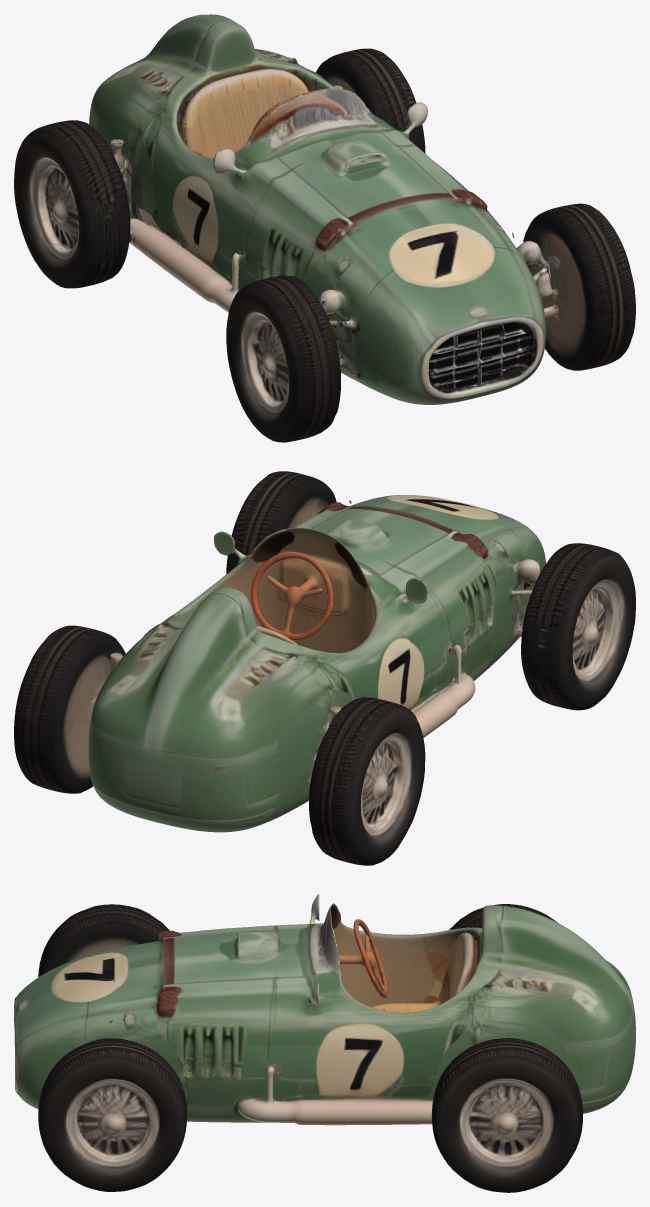
The model's file is mint-racer.glb.
3 views of the same model, one above another, from view 1: azimuth 30°, elevation 25°; view 2: azimuth 150°, elevation 25°; view 3: azimuth 270°, elevation 25° (orthographic). The views are drawn at different scales.
Visible parts, largest first — view 1: model; view 2: model; view 3: model.
Boxes of the visible parts, x1=… form: model: x1=14, y1=14, x2=635, y2=442; model: x1=14, y1=471, x2=635, y2=865; model: x1=14, y1=894, x2=635, y2=1192.
Size of the model in its own units: 1.12 by 0.7081 by 1.89.
Materials: 1 (1 with a texture image).
